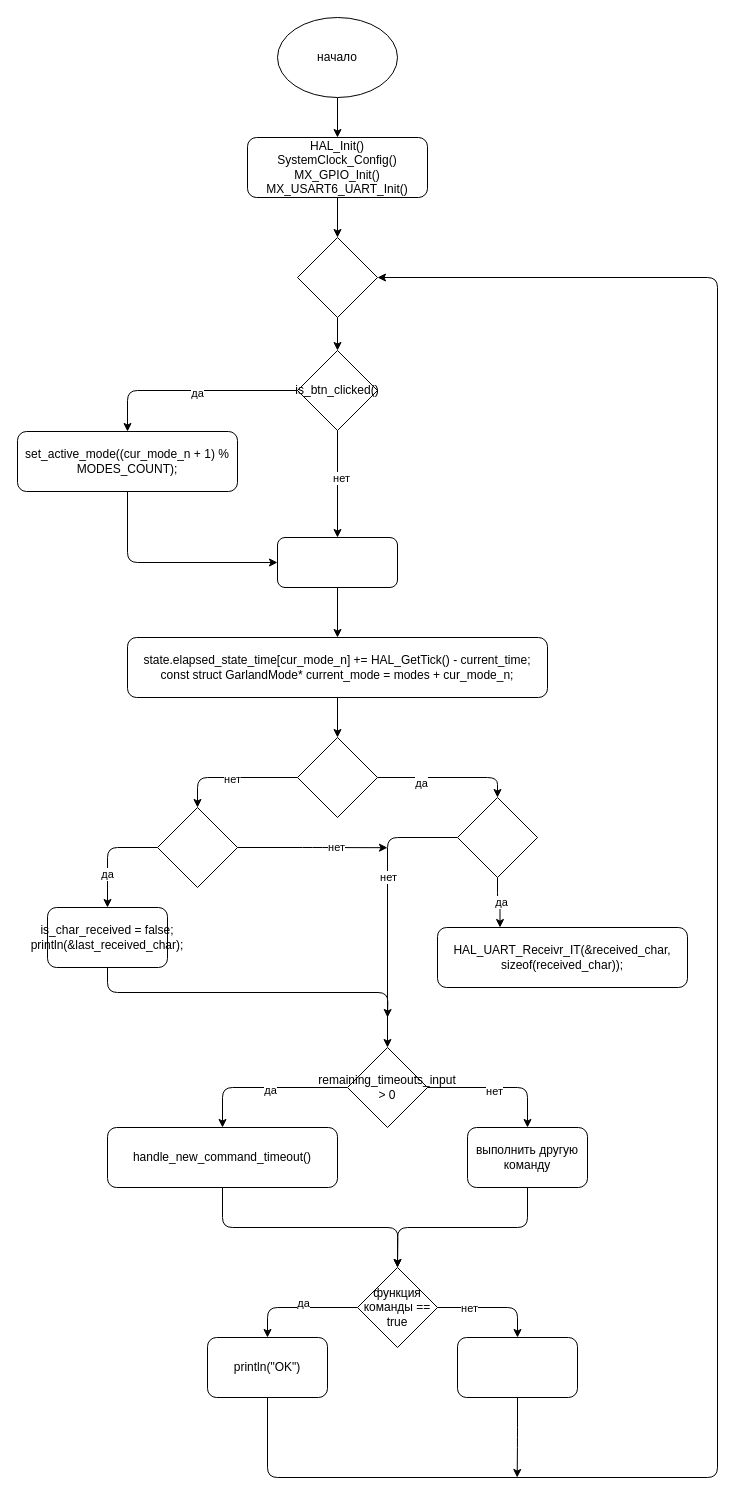
Some shapes in this 743 by 1503 pixel diagram are drawn without their labels. Here are the shapes that lost their labels. From the top down, the centre of each, then its label:
point (337, 277): while(true)
point (337, 562): readln()
point (337, 777): use_interrupt == true
point (197, 847): HAL_UART_Recieve(&received_char) == HAL_OK
point (497, 837): is_char_received
point (517, 1367): println("bad command")
